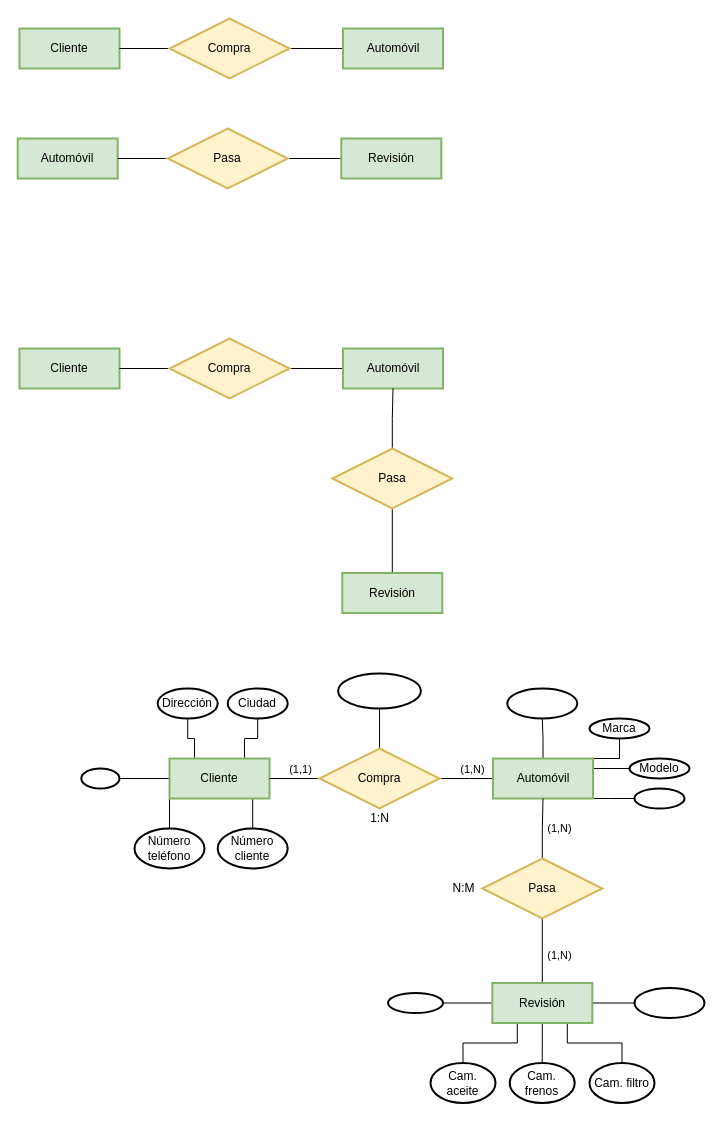
This 723x1121 diagram has some shape labels left out. The centre of each missing label's shape, as x and y in pixels:
Color: point (659, 798)
Código: point (669, 1002)
Matrícula: point (542, 703)
NIF: point (100, 778)
Otros: point (415, 1003)
Precio venta: point (379, 690)
